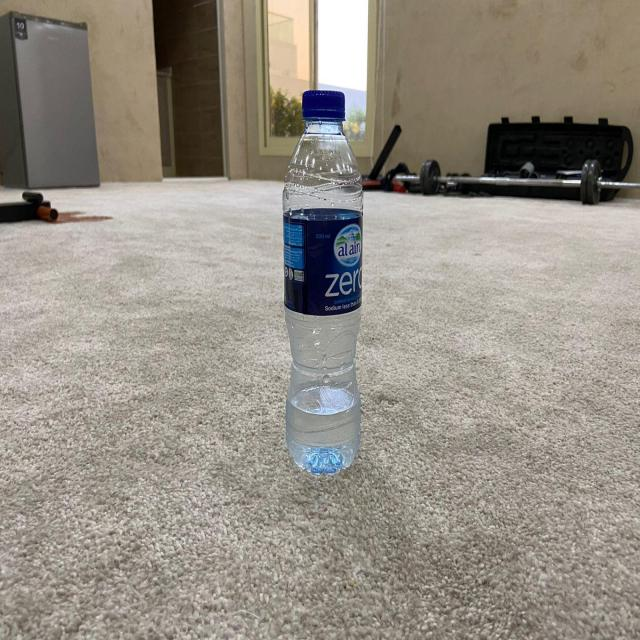bottle: (271, 80, 375, 488)
